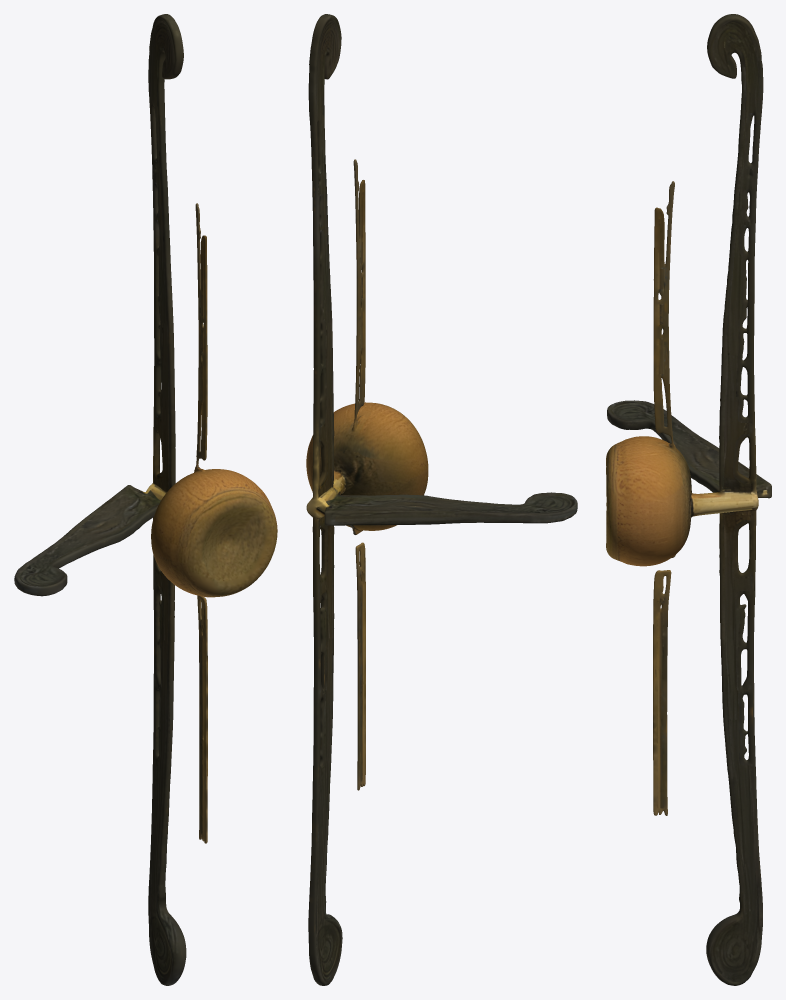
File: sulawesi-barat.glb
3 views of the same model, side by side, from view 1: azimuth 30°, elevation 25°; view 2: azimuth 150°, elevation 25°; view 3: azimuth 270°, elevation 25° (orthographic).
Visible parts, largest first — view 1: node_0; view 2: node_0; view 3: node_0.
Boxes of the visible parts, x1,y1,x2,y2 form: node_0: [14, 14, 277, 985]; node_0: [306, 14, 577, 985]; node_0: [606, 14, 771, 985].
Bounding box in the file's own units: 0.3257 × 1.18 × 0.1831.
Materials: 1 (1 with a texture image).
